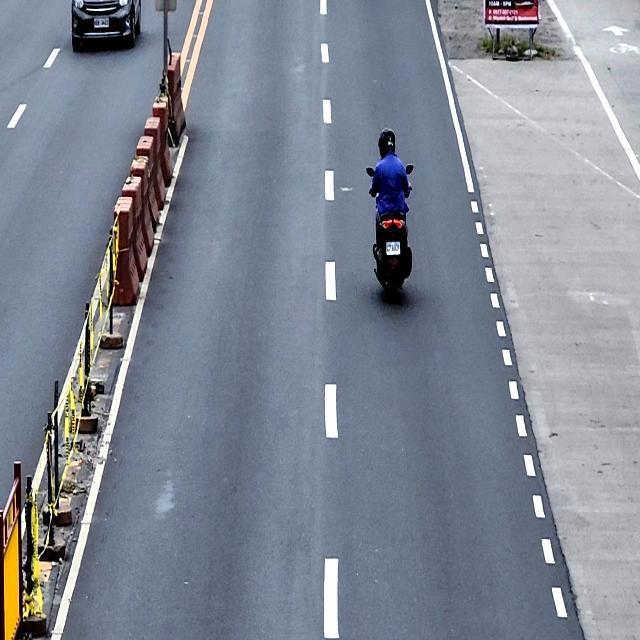Car: (71, 0, 141, 51)
License-Plate: (385, 241, 401, 256), (93, 16, 110, 29)
Motorcycle: (366, 164, 414, 302)
